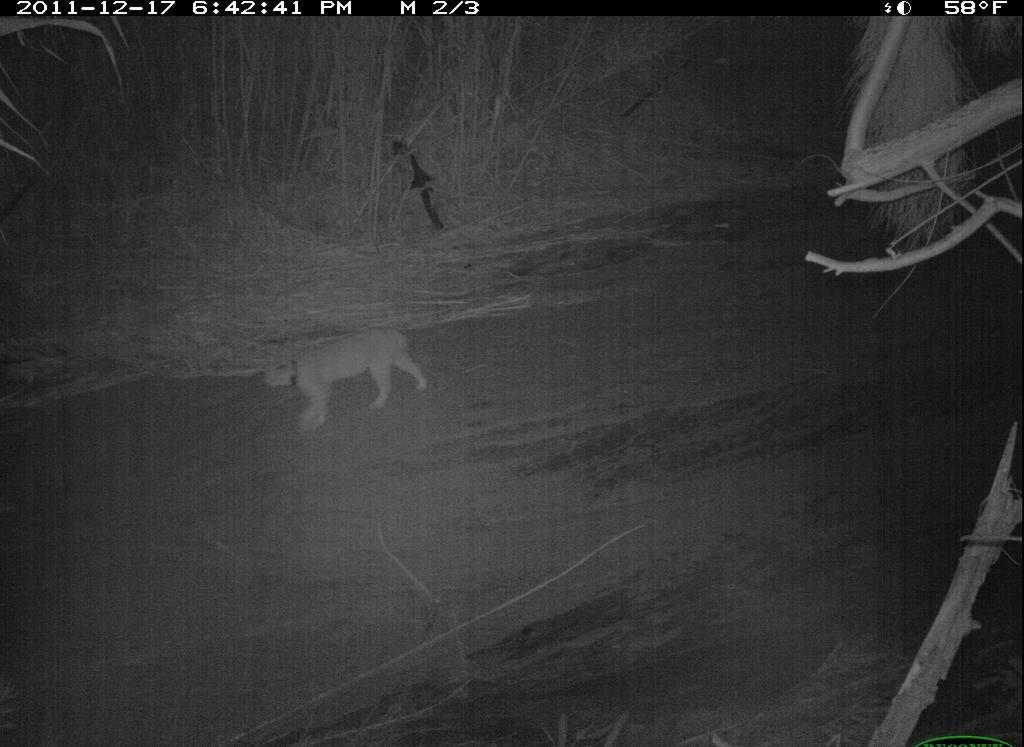bobcat: (253, 318, 443, 437)
